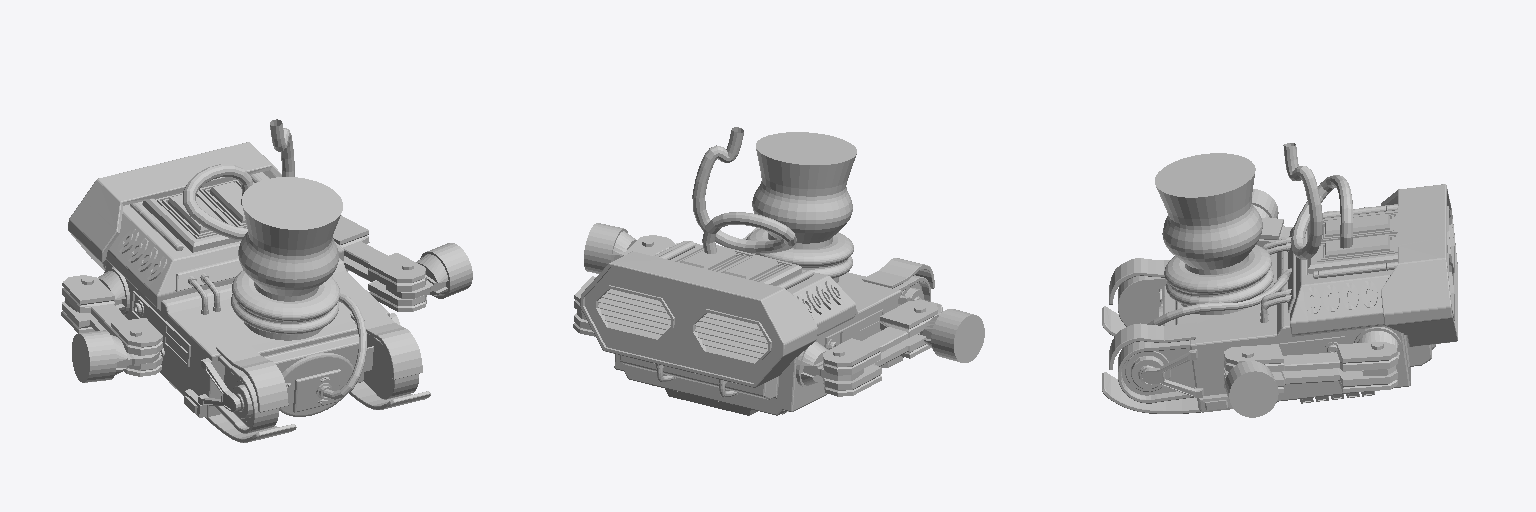
File: ATST_torso.obj
The picture shows the model from 3 angles: view 1: azimuth 30°, elevation 25°; view 2: azimuth 150°, elevation 25°; view 3: azimuth 270°, elevation 25°; orthographic projection.
Visible parts, largest first — view 1: ATST_torso; view 2: ATST_torso; view 3: ATST_torso.
Part boxes in pixels (x1,y1,x2,y2): ATST_torso: (61, 119, 472, 442); ATST_torso: (573, 127, 984, 415); ATST_torso: (1102, 143, 1457, 417).
Bounding box in the file's own units: 2.05 × 1.27 × 1.64.